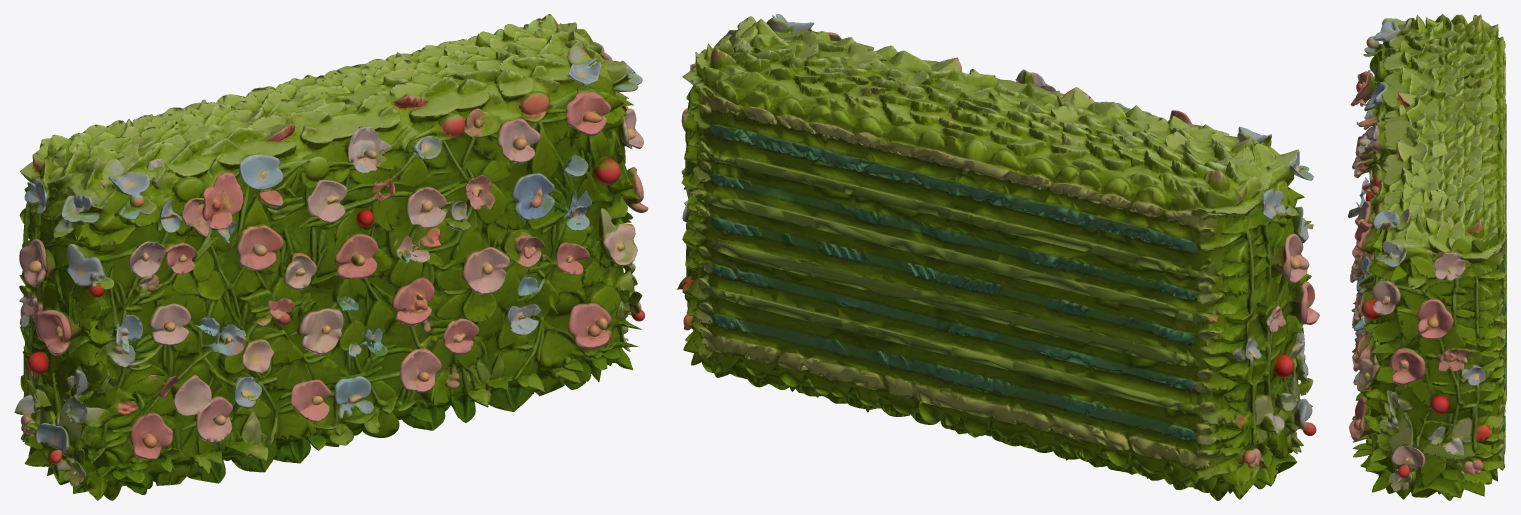
File: cover_hedge.glb
3 renders of one model, left to right at view 1: azimuth 30°, elevation 25°; view 2: azimuth 150°, elevation 25°; view 3: azimuth 270°, elevation 25°, orthographic. The views are drawn at different scales.
Visible parts, largest first — view 1: tripo_node_94bb5c17-2bef-4454-9dd0-4251be7d7091; view 2: tripo_node_94bb5c17-2bef-4454-9dd0-4251be7d7091; view 3: tripo_node_94bb5c17-2bef-4454-9dd0-4251be7d7091.
Part boxes in pixels (left/top/right/bottom): tripo_node_94bb5c17-2bef-4454-9dd0-4251be7d7091: left=14, top=14, right=648, bottom=500; tripo_node_94bb5c17-2bef-4454-9dd0-4251be7d7091: left=677, top=14, right=1319, bottom=500; tripo_node_94bb5c17-2bef-4454-9dd0-4251be7d7091: left=1348, top=14, right=1506, bottom=500.
Size of the model in its own units: 0.9994 by 0.5297 by 0.2704.
Materials: 1 (1 with a texture image).
